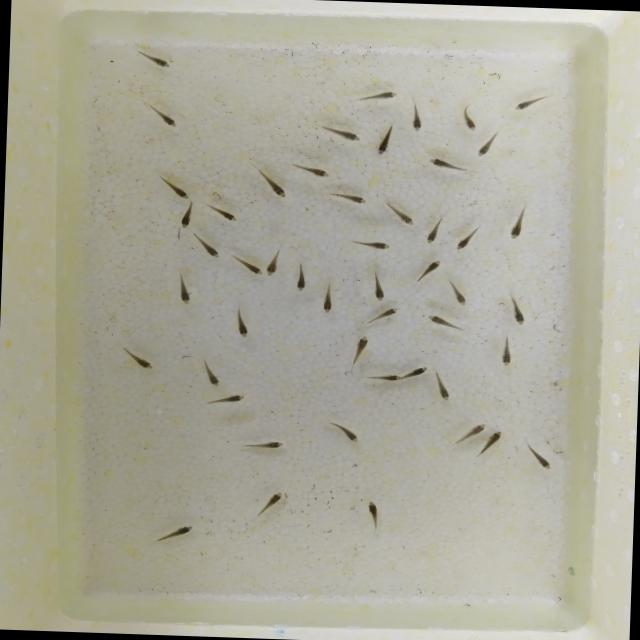fingerling: (289, 269, 317, 299), (261, 174, 289, 202), (349, 334, 377, 362), (472, 134, 501, 161), (503, 212, 528, 242), (481, 425, 511, 448), (321, 126, 364, 142), (216, 388, 254, 406), (200, 362, 224, 390), (161, 180, 194, 200), (359, 497, 386, 521), (127, 353, 161, 372), (165, 521, 195, 542), (496, 346, 521, 371), (260, 488, 284, 514), (368, 278, 392, 303), (173, 282, 196, 308), (235, 256, 264, 276), (426, 156, 462, 172), (460, 420, 492, 438), (378, 300, 401, 325), (144, 51, 174, 70), (338, 423, 362, 446), (530, 450, 554, 473), (456, 109, 481, 131), (363, 88, 402, 102), (418, 257, 444, 278), (198, 238, 225, 258), (177, 204, 196, 232), (391, 206, 416, 227), (510, 95, 540, 112), (252, 438, 286, 453), (448, 286, 472, 307), (317, 291, 338, 315), (422, 313, 458, 327), (236, 315, 254, 343), (207, 206, 240, 221), (406, 108, 426, 132), (372, 132, 390, 158), (433, 378, 451, 404), (452, 232, 472, 255), (300, 166, 338, 178), (154, 110, 179, 128), (364, 237, 392, 253), (264, 252, 279, 280), (510, 297, 524, 325), (374, 369, 402, 383), (425, 223, 442, 244), (340, 193, 372, 204), (407, 366, 430, 378)
